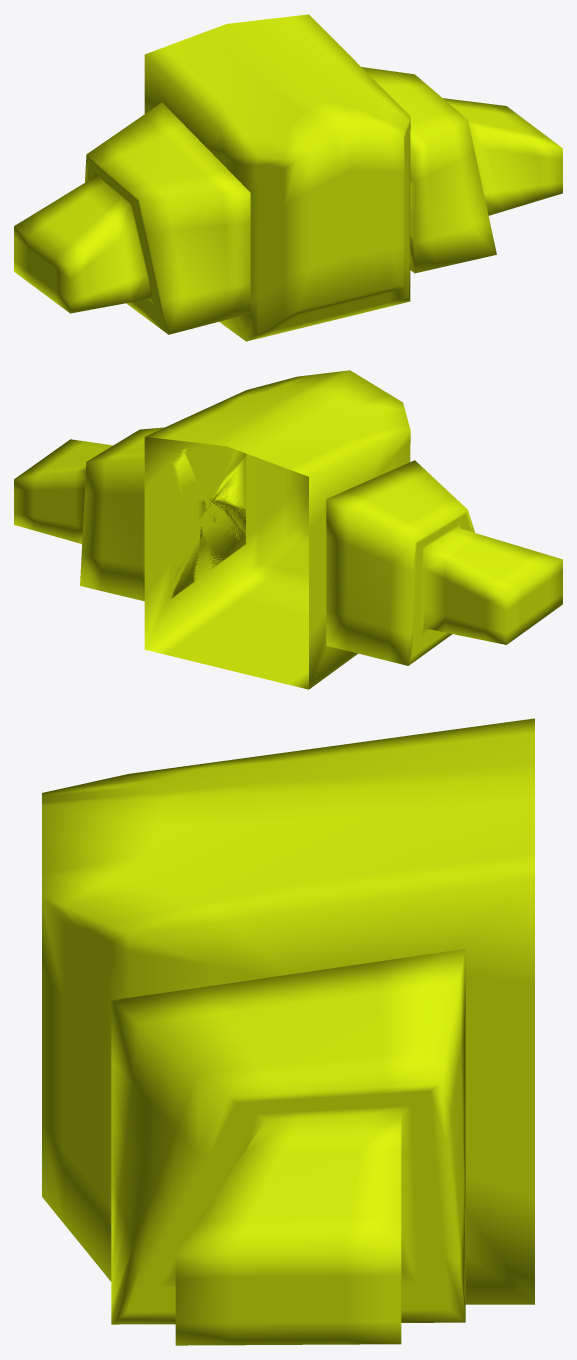
The model's file is pain.glb.
3 views of the same model, one above another, from view 1: azimuth 30°, elevation 25°; view 2: azimuth 150°, elevation 25°; view 3: azimuth 270°, elevation 25° (orthographic). The views are drawn at different scales.
Parts seen in each view (by area): view 1: Cube.005; view 2: Cube.005; view 3: Cube.005.
Part boxes in pixels (x1,y1,x2,y2): Cube.005: (14,14,562,341); Cube.005: (14,370,562,689); Cube.005: (42,718,534,1345).
Size of the model in its own units: 0.9774 by 0.4237 by 0.4237.
